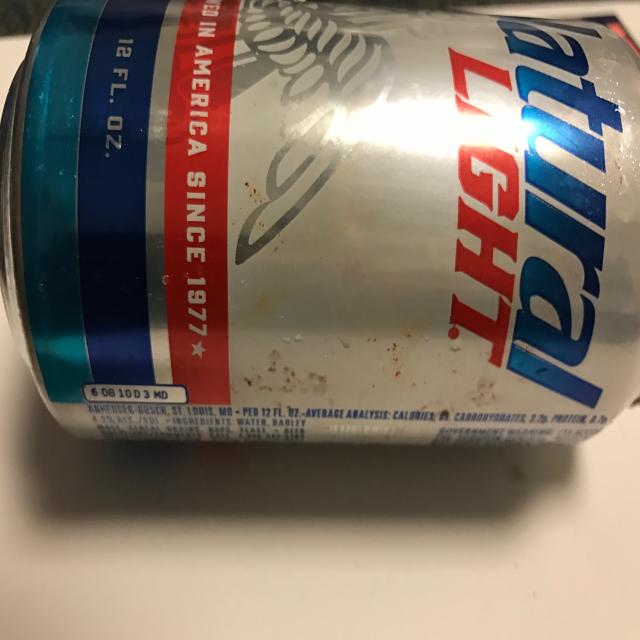metal: (0, 0, 640, 449)
